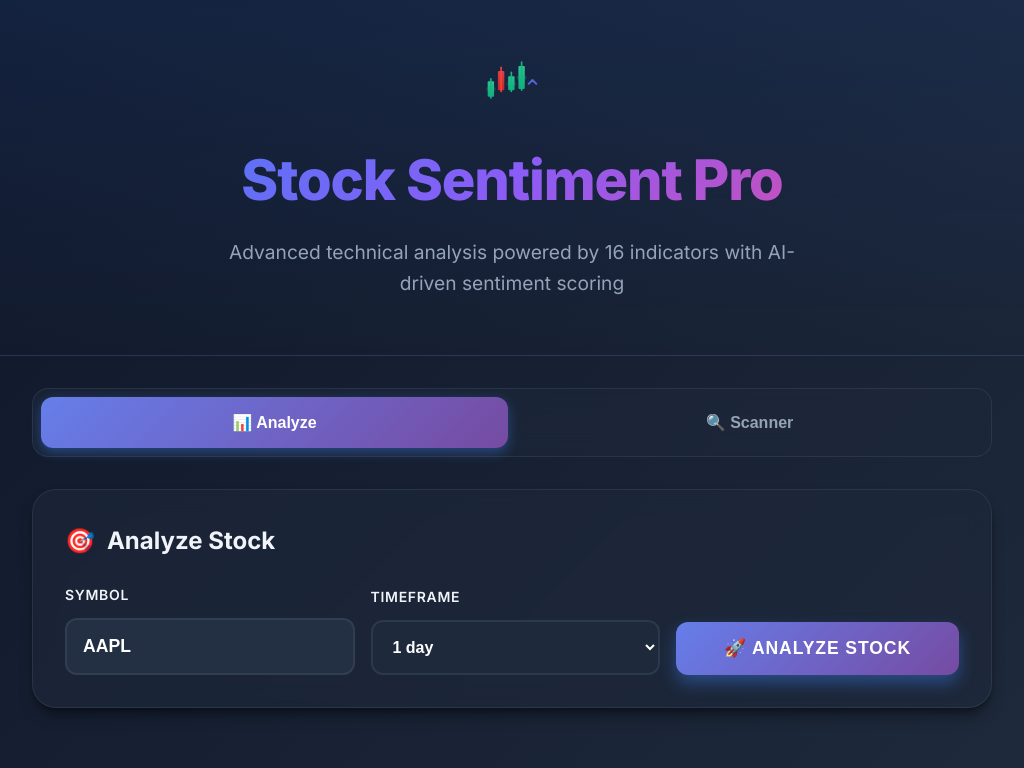
Stock Sentiment App - Fixed Tests › Scanner Functionality › renders scanner tab when clicked
// Click Scanner tab
Click the button "🔍 Scanner" at [750, 422], box top-left (516, 397), bottom-right (983, 448)
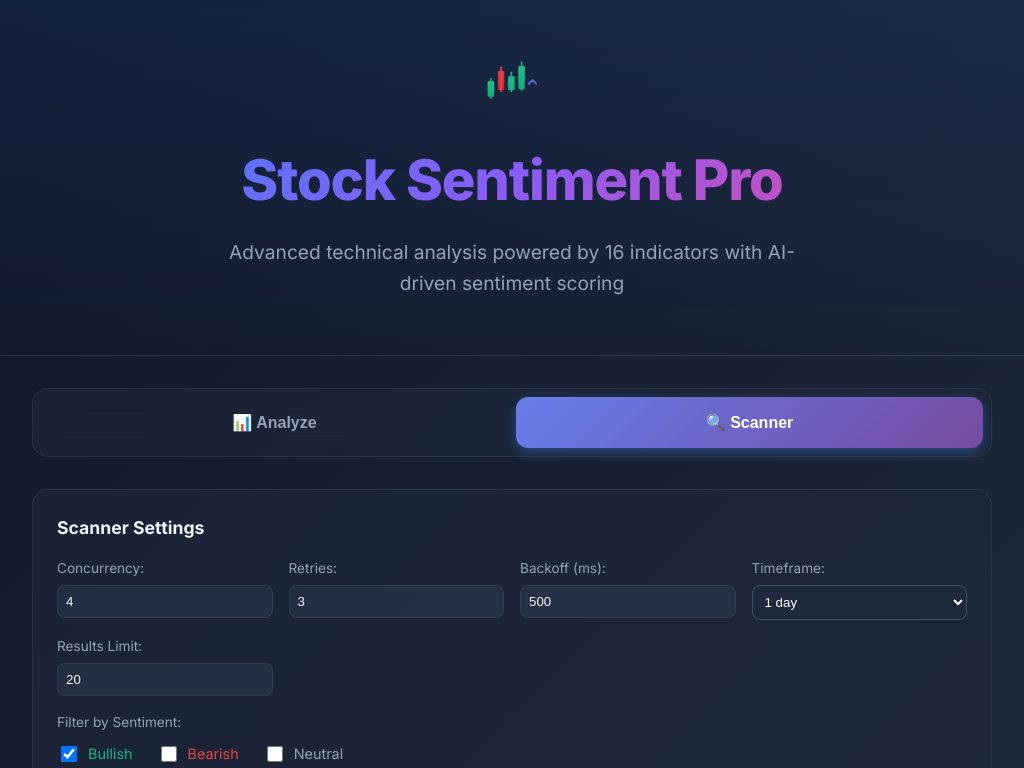
Expected: the heading "Scanner Settings" is shown, top-left (57, 517), bottom-right (204, 538)
